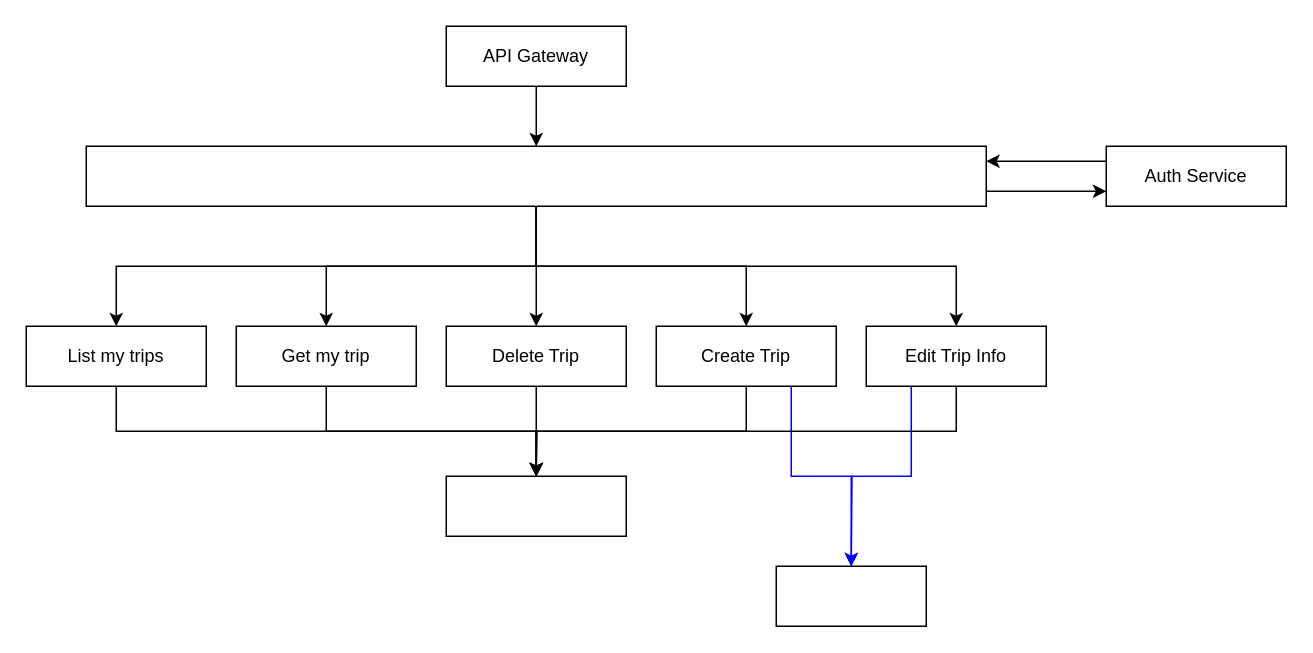
Some shapes in this 1313 by 653 pixel diagram are drawn without their labels. Here are the shapes that lost their labels. From the top down, the centre of each, then its label:
At (535,175): "Authorize Request".
At (535,505): "Dynamo DB Trips Table".
At (850,595): "S3 Trip Images Bucket".
